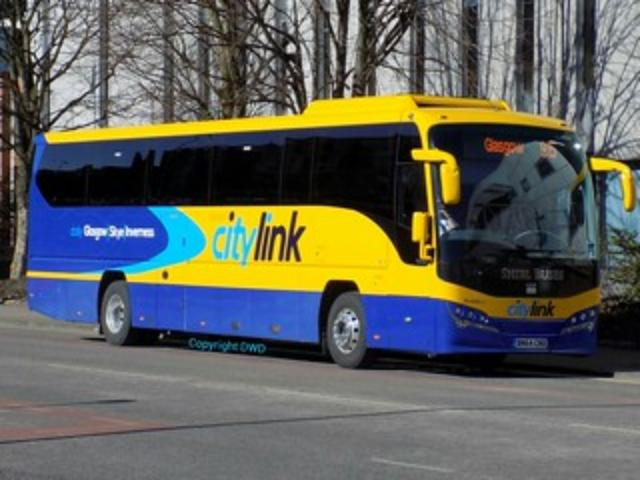bus: (28, 94, 600, 370)
